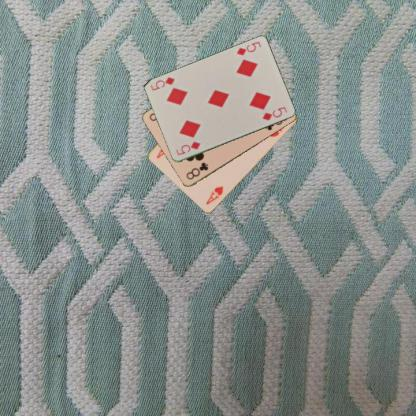5d: (234, 39, 262, 57), (173, 139, 202, 156)
8c: (184, 160, 209, 181)
Ah: (203, 184, 224, 206)
